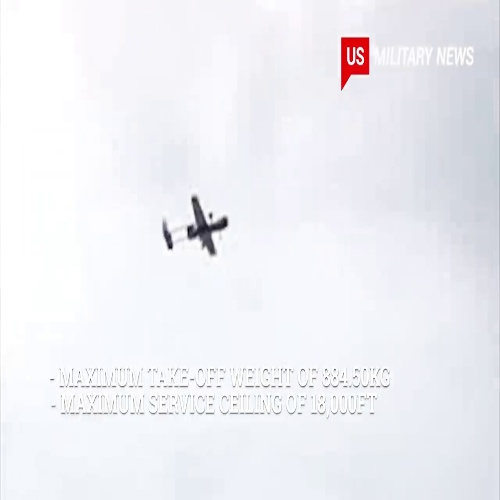uav: (159, 195, 230, 258)
